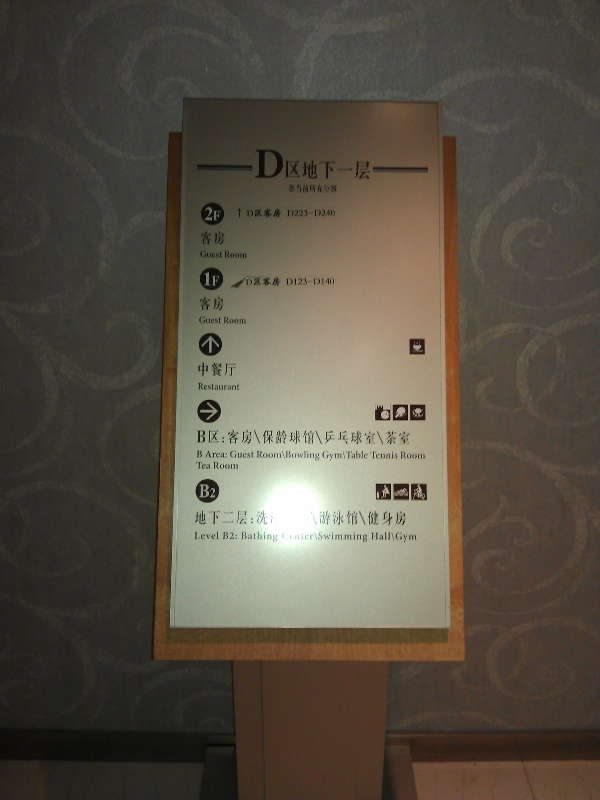text: (257, 150, 272, 180), (273, 150, 288, 180), (289, 150, 304, 180), (305, 150, 320, 180), (321, 150, 336, 180), (337, 150, 352, 180), (353, 150, 368, 180), (209, 297, 225, 312), (321, 510, 336, 526), (337, 510, 352, 526), (353, 510, 368, 526), (369, 510, 384, 526), (385, 510, 400, 526), (209, 430, 224, 445), (225, 430, 240, 445), (241, 430, 256, 445), (257, 430, 272, 445), (273, 430, 288, 445), (289, 430, 304, 445), (305, 430, 320, 445), (321, 430, 336, 445), (337, 430, 352, 445), (353, 430, 368, 445), (369, 430, 384, 445), (385, 430, 400, 445), (209, 231, 224, 245), (209, 363, 224, 377), (209, 511, 224, 525), (225, 511, 240, 525), (241, 511, 256, 525), (257, 511, 272, 525), (209, 207, 221, 223), (401, 532, 417, 544), (225, 363, 238, 377), (195, 511, 208, 525), (385, 532, 400, 544), (209, 272, 220, 288), (305, 451, 321, 462), (353, 532, 369, 543), (289, 183, 304, 194), (305, 183, 320, 194), (321, 183, 336, 194), (197, 430, 208, 445), (401, 430, 412, 445), (257, 208, 272, 219), (257, 451, 272, 462), (273, 451, 288, 462), (289, 451, 304, 462), (337, 451, 352, 462), (353, 451, 368, 462), (241, 532, 256, 543), (257, 532, 272, 543), (289, 532, 304, 543), (305, 532, 320, 543), (321, 532, 336, 543), (337, 532, 352, 543), (371, 532, 384, 544), (322, 451, 336, 462), (257, 277, 272, 287), (225, 382, 241, 391), (311, 510, 320, 526), (198, 363, 208, 377), (194, 531, 208, 541), (199, 297, 208, 312), (209, 382, 224, 391), (199, 485, 208, 500), (289, 209, 304, 218), (305, 209, 320, 218), (321, 209, 336, 218), (289, 277, 304, 286), (305, 277, 320, 286), (321, 277, 336, 286), (225, 316, 240, 325), (209, 250, 223, 259), (369, 150, 373, 180), (209, 485, 217, 500), (225, 251, 240, 259), (209, 451, 224, 459), (401, 452, 416, 460), (209, 316, 222, 325), (371, 451, 384, 460), (385, 451, 398, 460), (401, 510, 408, 526), (241, 451, 255, 459), (225, 462, 239, 470), (245, 277, 256, 287), (246, 208, 256, 219), (273, 208, 283, 219), (196, 462, 208, 471), (225, 532, 238, 540), (209, 531, 219, 541), (201, 231, 208, 245), (273, 511, 280, 525), (253, 150, 256, 180), (273, 277, 282, 287), (198, 382, 208, 391), (213, 462, 224, 470), (196, 451, 208, 458), (199, 316, 208, 325), (203, 272, 208, 288), (230, 451, 240, 459), (200, 250, 208, 259), (417, 452, 426, 460), (282, 532, 288, 543), (204, 207, 208, 223), (241, 251, 248, 259), (273, 532, 278, 543), (241, 316, 247, 325), (337, 183, 340, 194), (209, 462, 212, 471), (225, 451, 228, 459), (206, 451, 208, 459), (225, 231, 226, 245), (287, 183, 288, 194), (287, 277, 288, 286), (223, 532, 224, 540)
